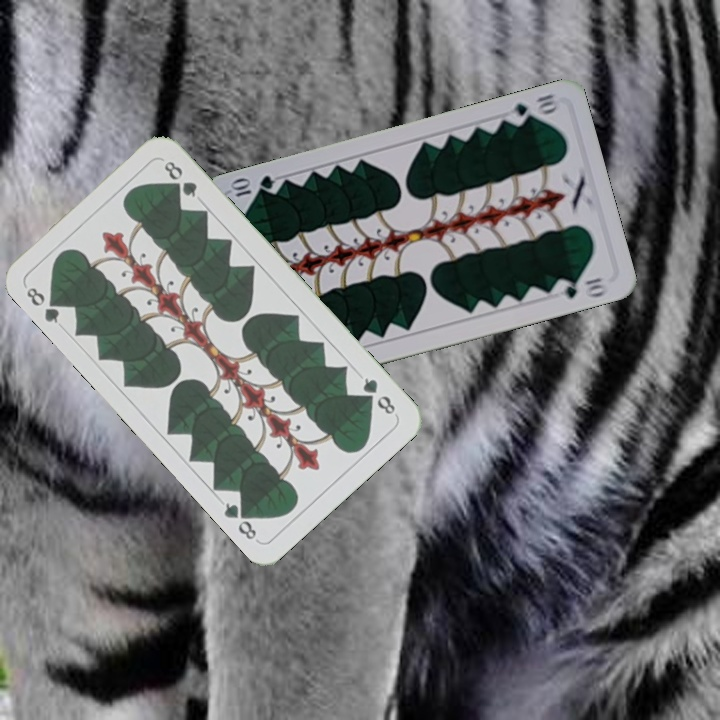G10: (502, 90, 560, 128)
G8: (22, 283, 65, 326), (358, 373, 398, 417)
